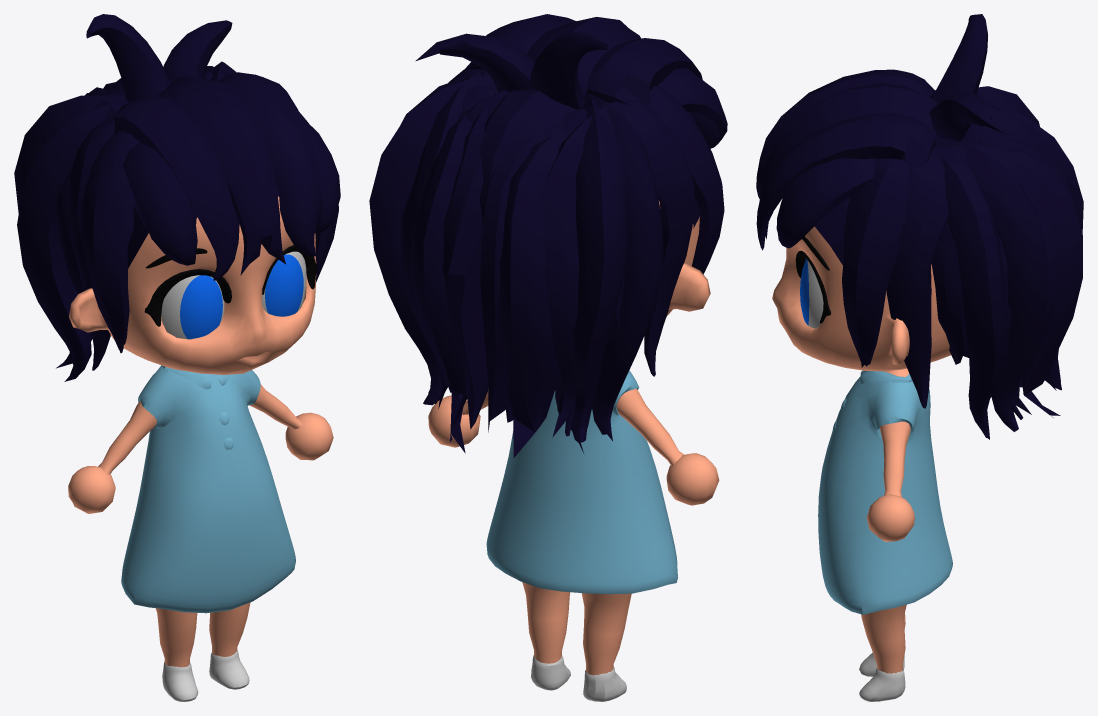
Rendered from MARU.fbx.
3 renders of one model, left to right at view 1: azimuth 30°, elevation 25°; view 2: azimuth 150°, elevation 25°; view 3: azimuth 270°, elevation 25°, orthographic. The views are drawn at different scales.
Visible parts, largest first — view 1: LP_Hair, LP_Shirt, LP_Base, LP_Eyes (×2), LP_Shoes, LP_Eyeleash; view 2: LP_Hair, LP_Shirt, LP_Base, LP_Shoes; view 3: LP_Hair, LP_Shirt, LP_Base, LP_Shoes, LP_Eyes, LP_Eyeleash.
Boxes of the visible parts, bbox=[...] form: LP_Hair: bbox=[14, 14, 340, 381]; LP_Shirt: bbox=[121, 365, 295, 613]; LP_Base: bbox=[68, 196, 333, 667]; LP_Eyes (×2): bbox=[161, 251, 306, 339]; LP_Shoes: bbox=[162, 650, 249, 701]; LP_Eyeleash: bbox=[144, 245, 317, 326]; LP_Hair: bbox=[369, 14, 727, 457]; LP_Shirt: bbox=[486, 370, 677, 594]; LP_Base: bbox=[428, 200, 719, 675]; LP_Shoes: bbox=[531, 655, 626, 701]; LP_Hair: bbox=[756, 14, 1083, 439]; LP_Shirt: bbox=[818, 370, 952, 614]; LP_Base: bbox=[772, 226, 950, 673]; LP_Shoes: bbox=[859, 652, 905, 701]; LP_Eyes: bbox=[807, 260, 823, 328]; LP_Eyeleash: bbox=[795, 250, 830, 323].
Bounding box in the file's own units: 117 × 280 × 129.
